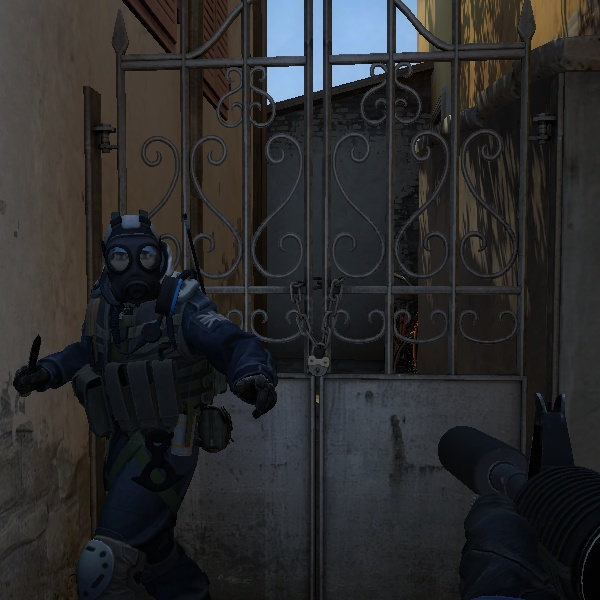ct_body: (23, 165, 312, 597)
